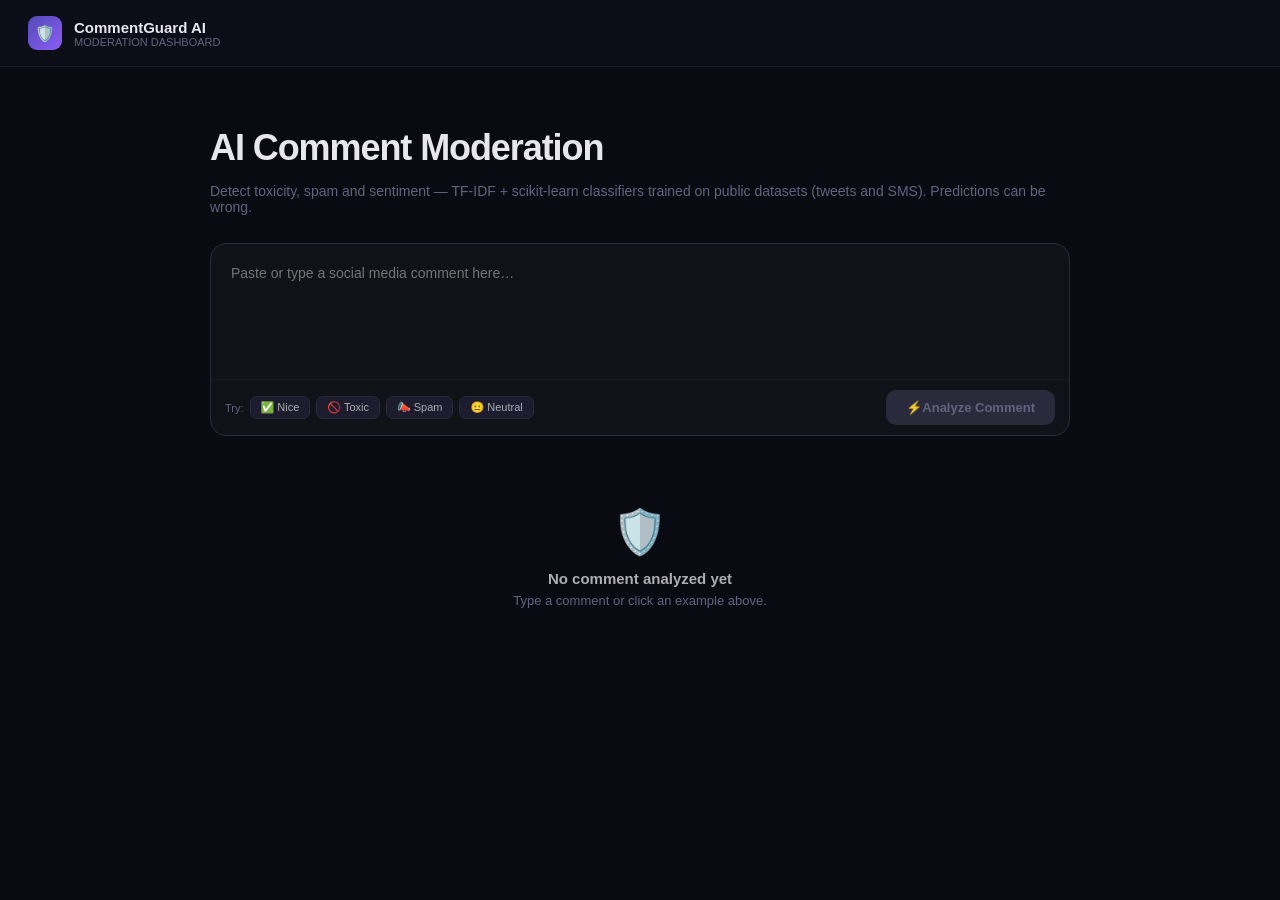
it: shows per-task probabilities, an uncertainty warning and the model caveat
The width and height of the screenshot is (1280, 900).
Type "Great video" into the text box with placeholder "Paste or type a social media comment here…" at (640, 310), box x1=211 y1=244 x2=1069 y2=375
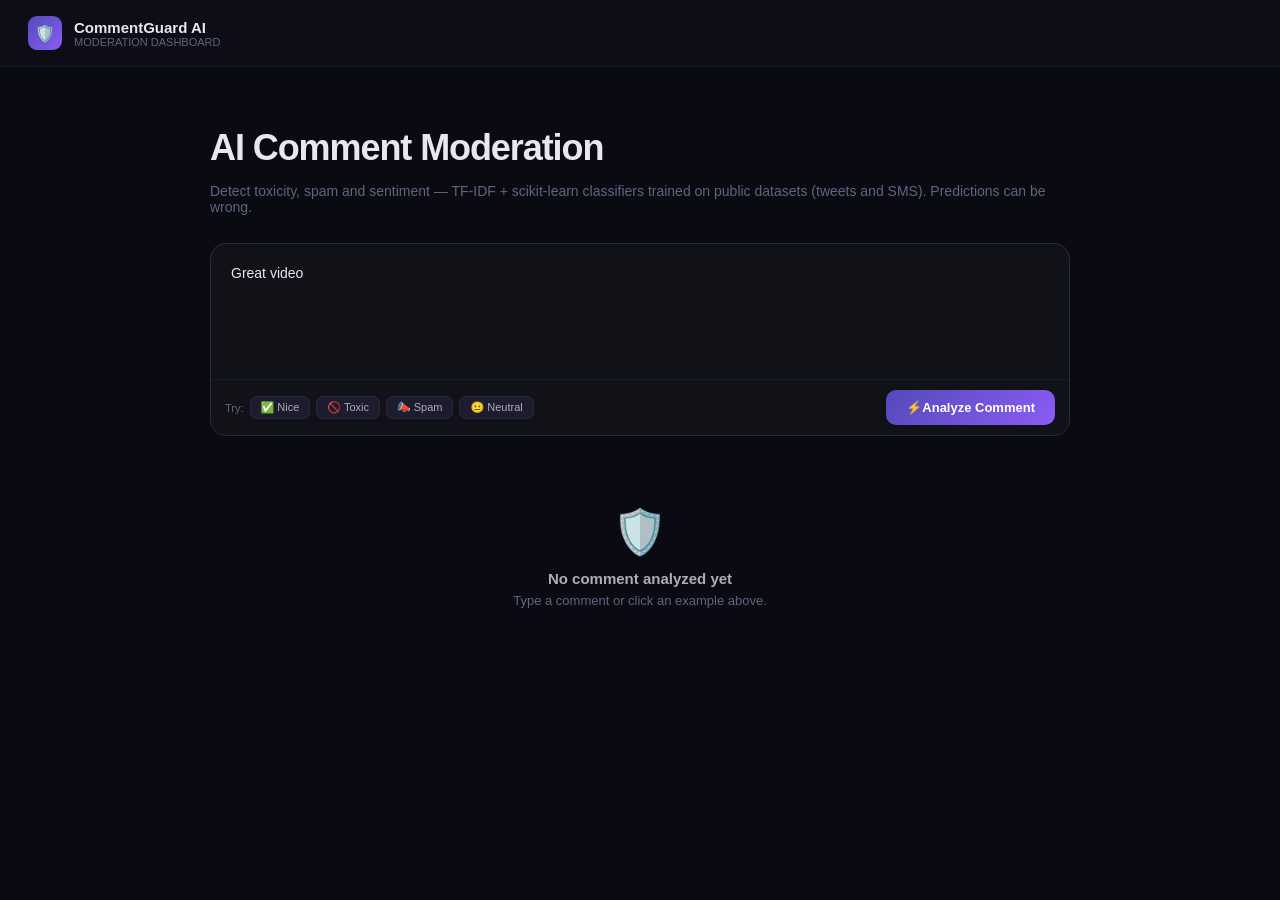
Click the button "⚡Analyze Comment" at (971, 408), box x1=886 y1=390 x2=1055 y2=425
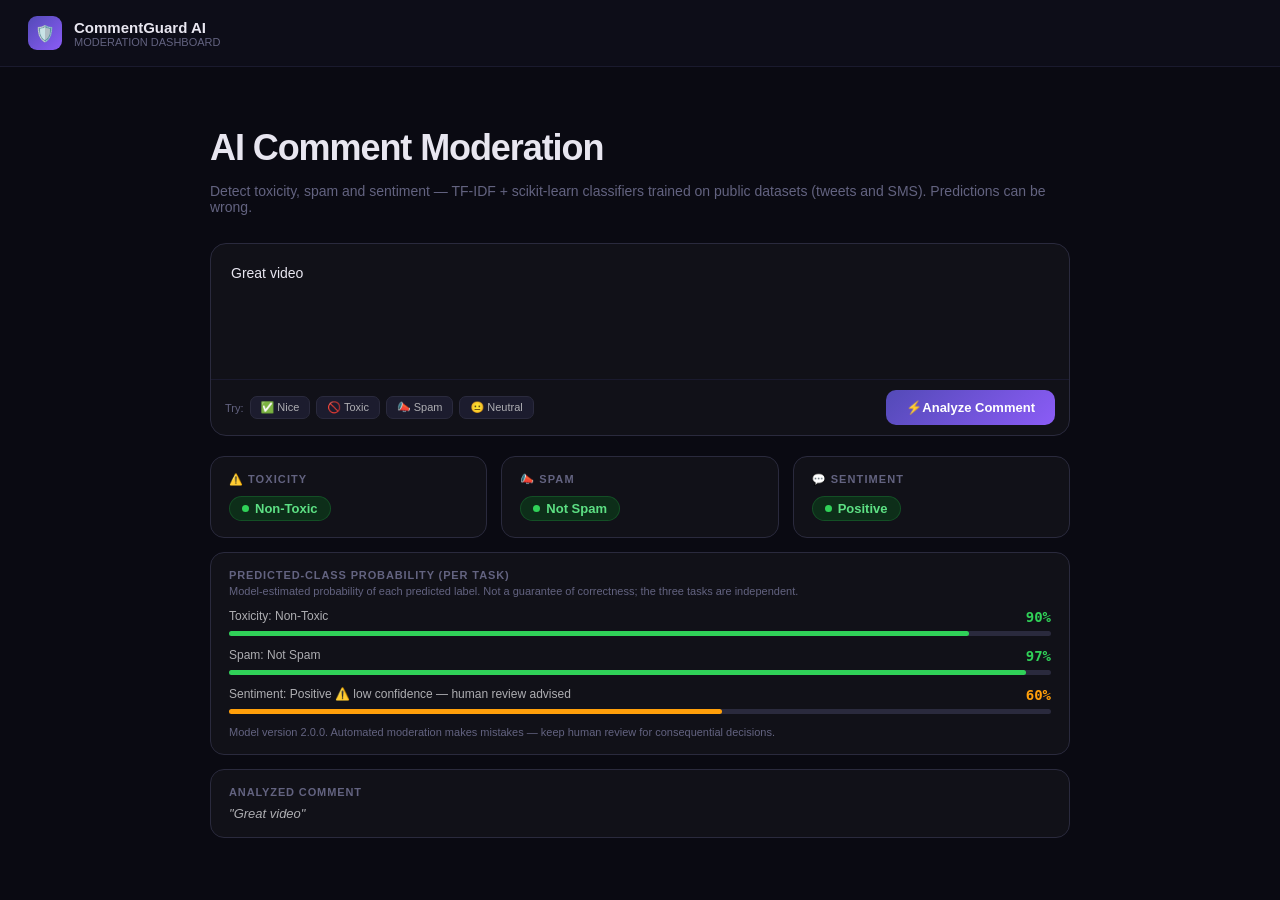
Result: the text "90%" is shown at x1=1026 y1=609 x2=1051 y2=625
Result: the text "Sentiment: Positive ⚠️ low confidence — human review advised" is shown at x1=229 y1=687 x2=571 y2=703
Result: the text "Model version 2.0.0" is shown at x1=229 y1=726 x2=775 y2=738
